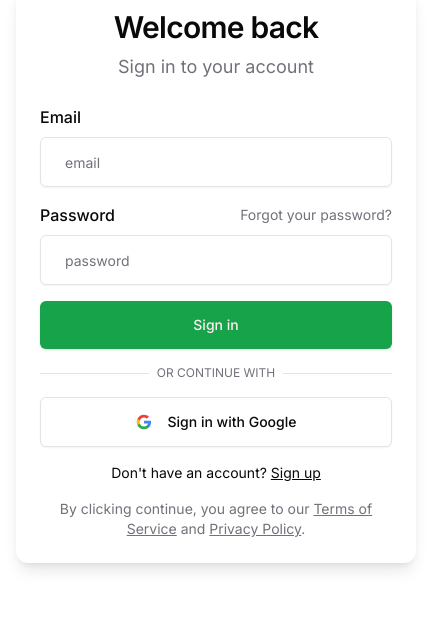
it: SignInForm › displays error when credentials are invalid
Step 1. Type "test@example.com" into the field labelled "Email" → (216, 162), box [40, 137, 392, 187]
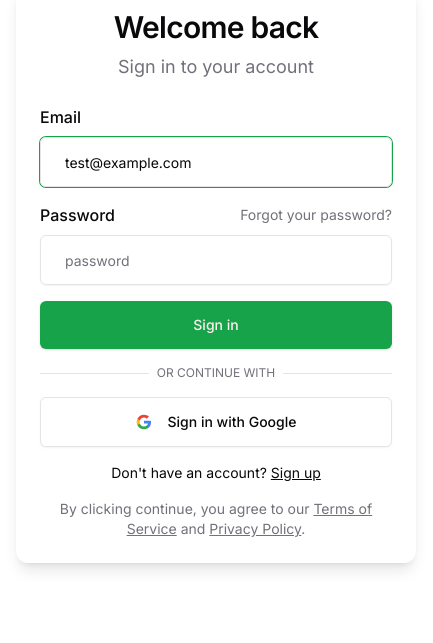
Step 2. Type "password123" into the password field labelled "Password" → (216, 260), box [40, 235, 392, 285]
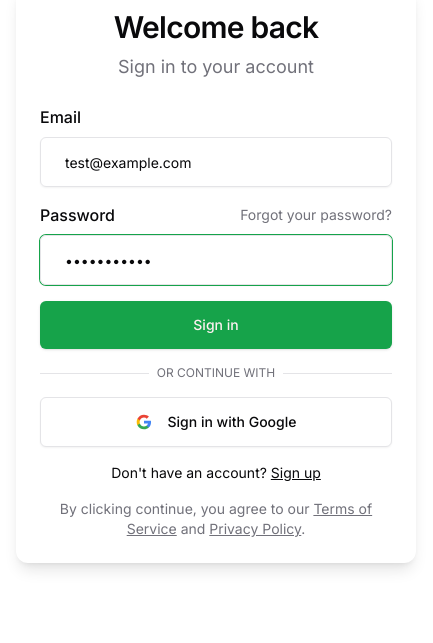
Step 3. Click the button with test id "signin-button" → (216, 325), box [40, 301, 392, 349]
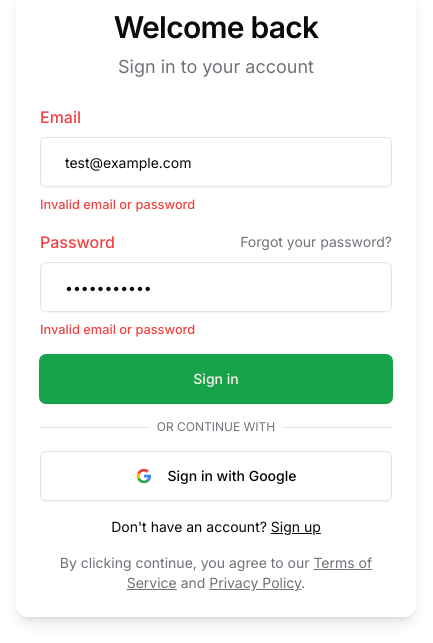
Check: the text "Invalid email or password" is shown 2 times, box [40, 197, 195, 212]; [40, 322, 195, 337]
